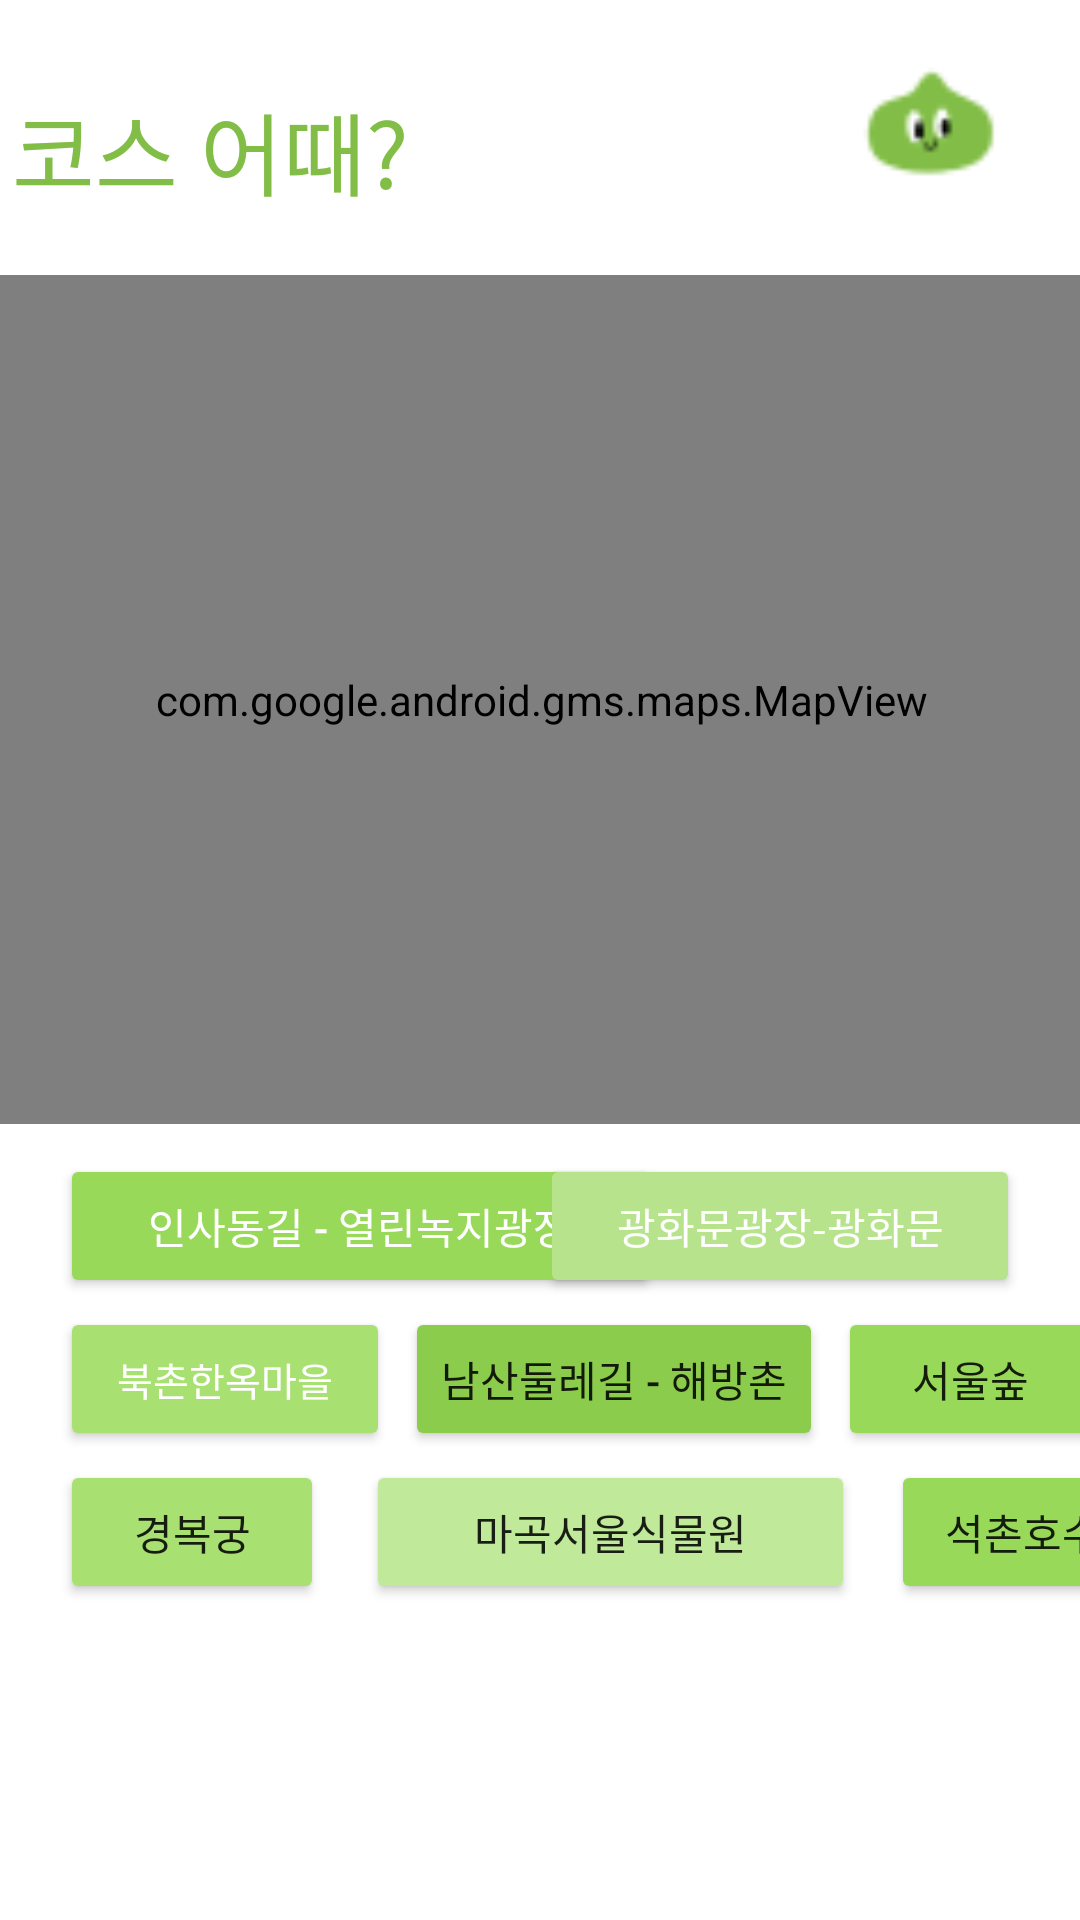

Screen size 1080w x 1920h. Icon name, then its box in pixels as BBox(x1, y1, x2, y2):
mainicon: BBox(867, 71, 994, 175)
